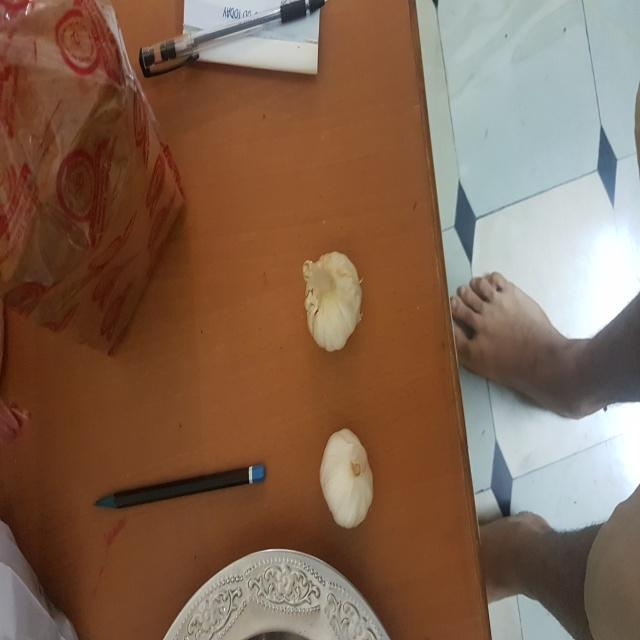garlic: (281, 243, 375, 355), (310, 424, 393, 526)
